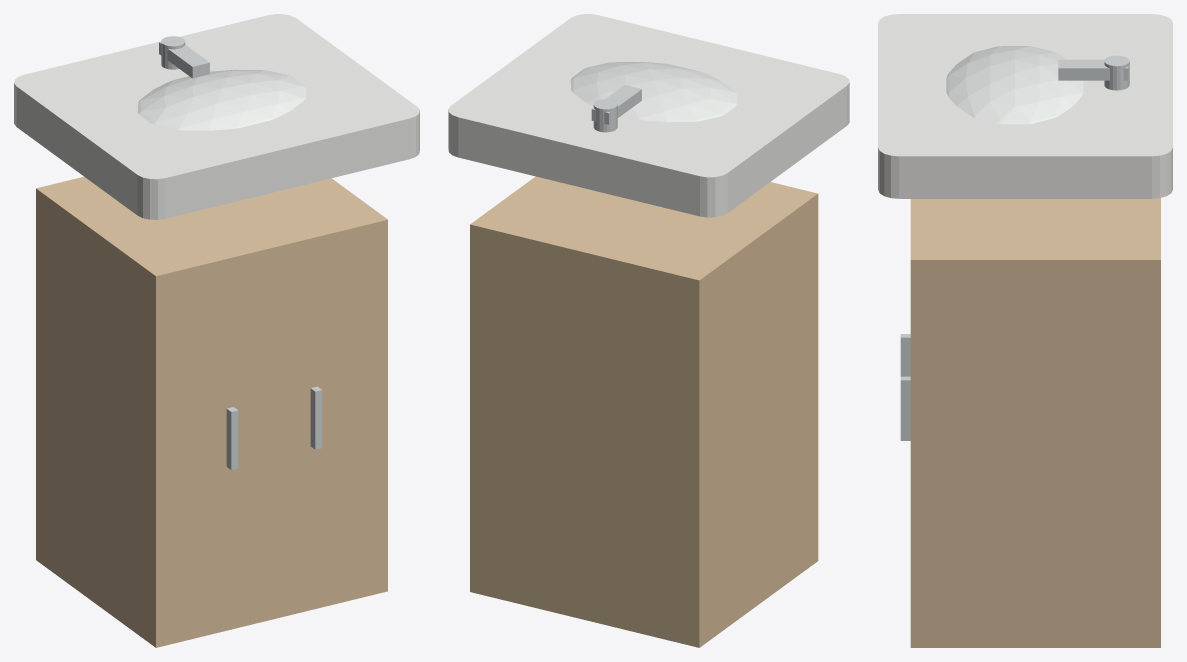
The model's file is s-bath-o03-97c30cc926.glb.
The picture shows the model from 3 angles, left to right: view 1: azimuth 30°, elevation 25°; view 2: azimuth 150°, elevation 25°; view 3: azimuth 270°, elevation 25°; orthographic projection. The views are drawn at different scales.
Visible parts, largest first — view 1: cabinet, ceramic-rim, bowl, spout, handle-6, handle-5; view 2: cabinet, ceramic-rim, bowl, spout, tap; view 3: cabinet, ceramic-rim, bowl, spout, tap, handle-6, handle-5.
Part boxes in pixels (left/top/right/bottom): cabinet: left=36, top=176, right=387, bottom=647; ceramic-rim: left=14, top=14, right=419, bottom=219; bowl: left=137, top=69, right=306, bottom=130; spout: left=159, top=42, right=209, bottom=78; handle-6: left=310, top=386, right=322, bottom=449; handle-5: left=226, top=407, right=238, bottom=469; cabinet: left=470, top=176, right=818, bottom=647; ceramic-rim: left=448, top=14, right=849, bottom=217; bowl: left=570, top=62, right=737, bottom=122; spout: left=591, top=85, right=641, bottom=124; tap: left=593, top=99, right=617, bottom=132; cabinet: left=910, top=198, right=1160, bottom=647; ceramic-rim: left=878, top=14, right=1172, bottom=198; bowl: left=946, top=46, right=1083, bottom=124; spout: left=1058, top=59, right=1128, bottom=80; tap: left=1104, top=55, right=1129, bottom=90; handle-6: left=900, top=376, right=910, bottom=440; handle-5: left=900, top=334, right=910, bottom=376.
Size of the model in its own units: 0.48 by 0.83 by 0.42.
